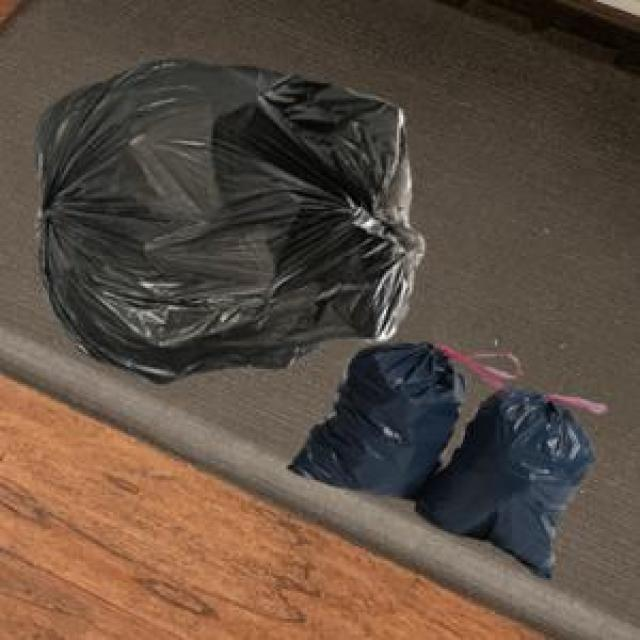Vinyl: (36, 60, 424, 379), (291, 342, 594, 576)
